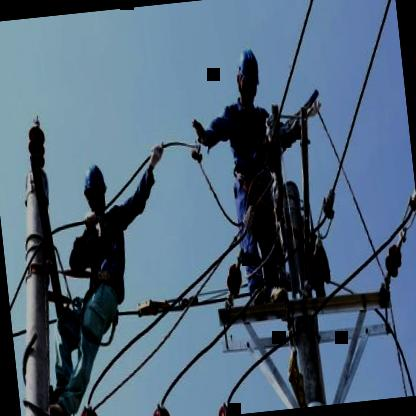helmet: (232, 40, 264, 110), (80, 156, 112, 222)
